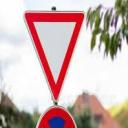preferencia: (20, 8, 90, 104)
